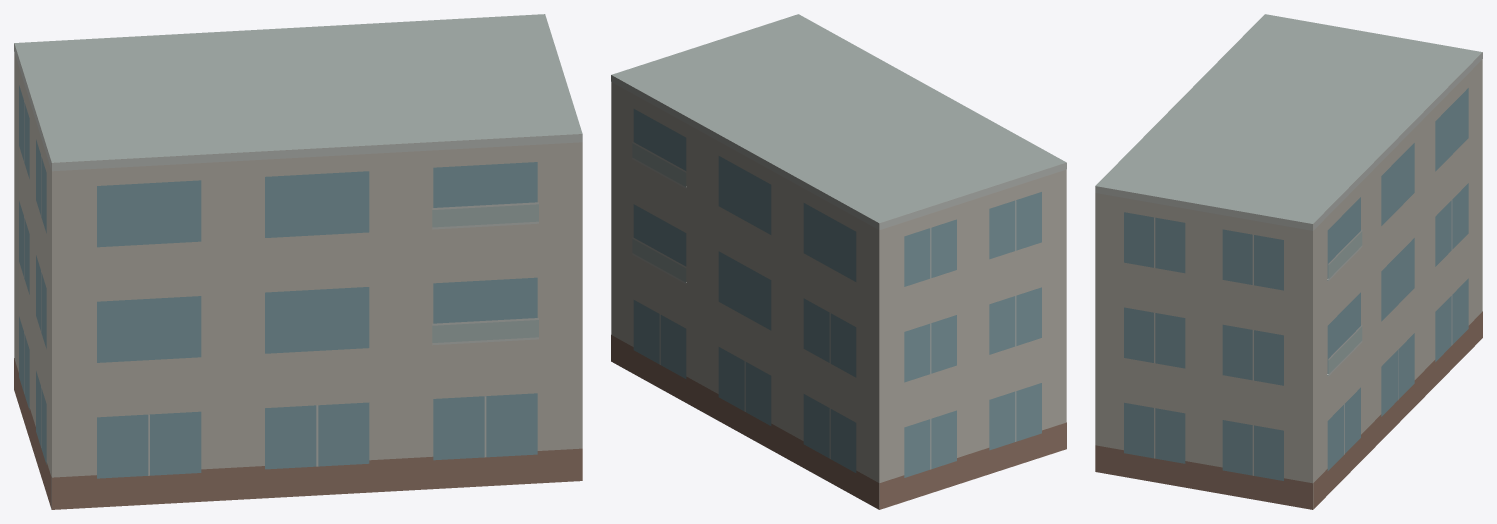
The model's file is survey-upis-32719592.glb.
The picture shows the model from 3 angles, left to right: view 1: azimuth 30°, elevation 25°; view 2: azimuth 150°, elevation 25°; view 3: azimuth 270°, elevation 25°; orthographic projection. The views are drawn at different scales.
Visible parts, largest first — view 1: survey-upis-32719592.tmp; view 2: survey-upis-32719592.tmp; view 3: survey-upis-32719592.tmp.
Boxes of the visible parts, bbox=[...] form: survey-upis-32719592.tmp: bbox=[14, 14, 582, 509]; survey-upis-32719592.tmp: bbox=[611, 14, 1066, 509]; survey-upis-32719592.tmp: bbox=[1095, 14, 1482, 509].
Bounding box in the file's own units: 15.93 × 10.1 × 12.42.
